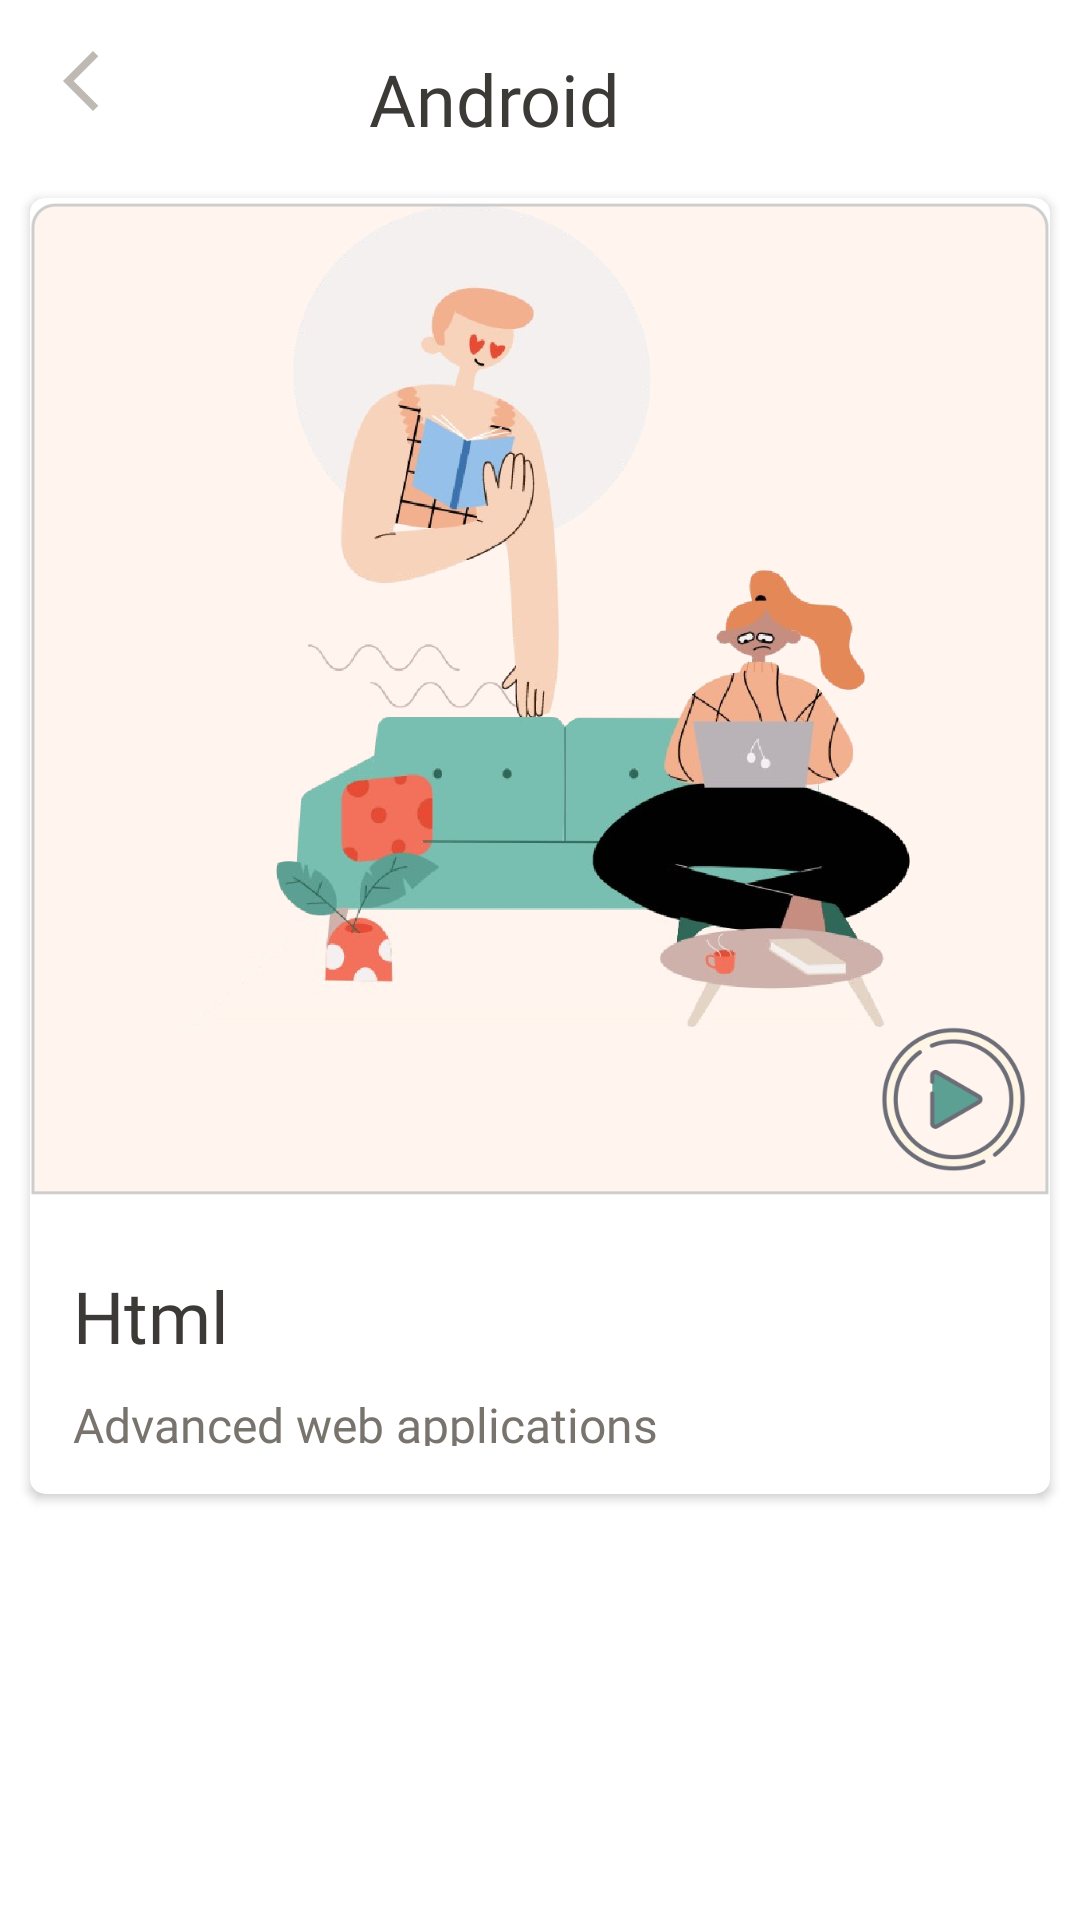

Where icons sit on this 1080px×1920px app screen, as (x1=x1, y1=y1, x2=x2, y2=y2):
back: (x1=63, y1=51, x2=98, y2=111)
